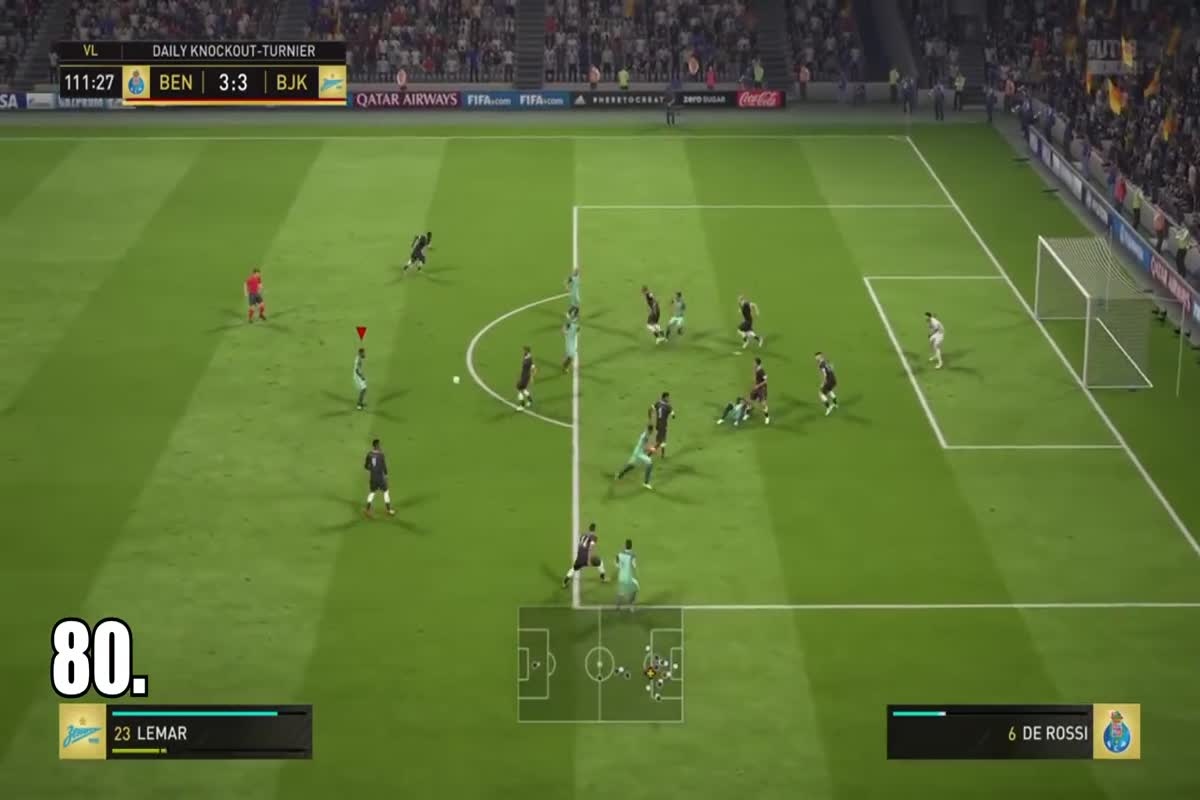ball: (444, 368, 470, 392)
